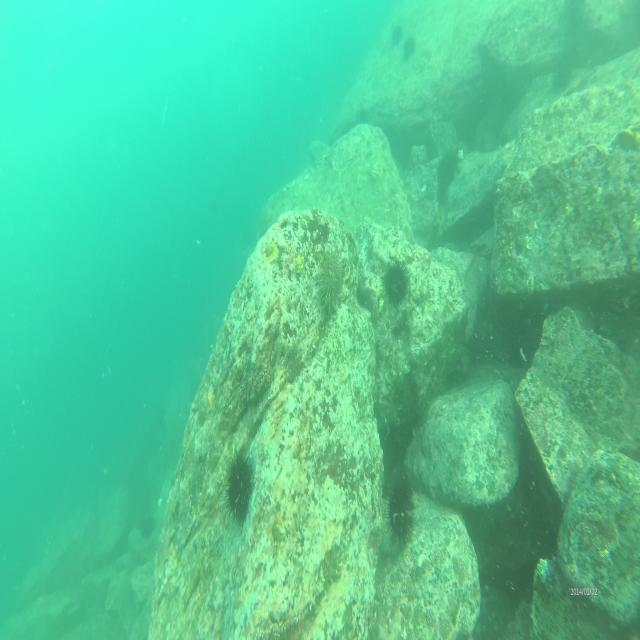echinus: (228, 438, 257, 522), (387, 465, 416, 544), (314, 247, 346, 317), (381, 257, 411, 309), (399, 30, 417, 60), (387, 18, 405, 46)
scallop: (284, 242, 305, 273), (260, 234, 280, 266)
